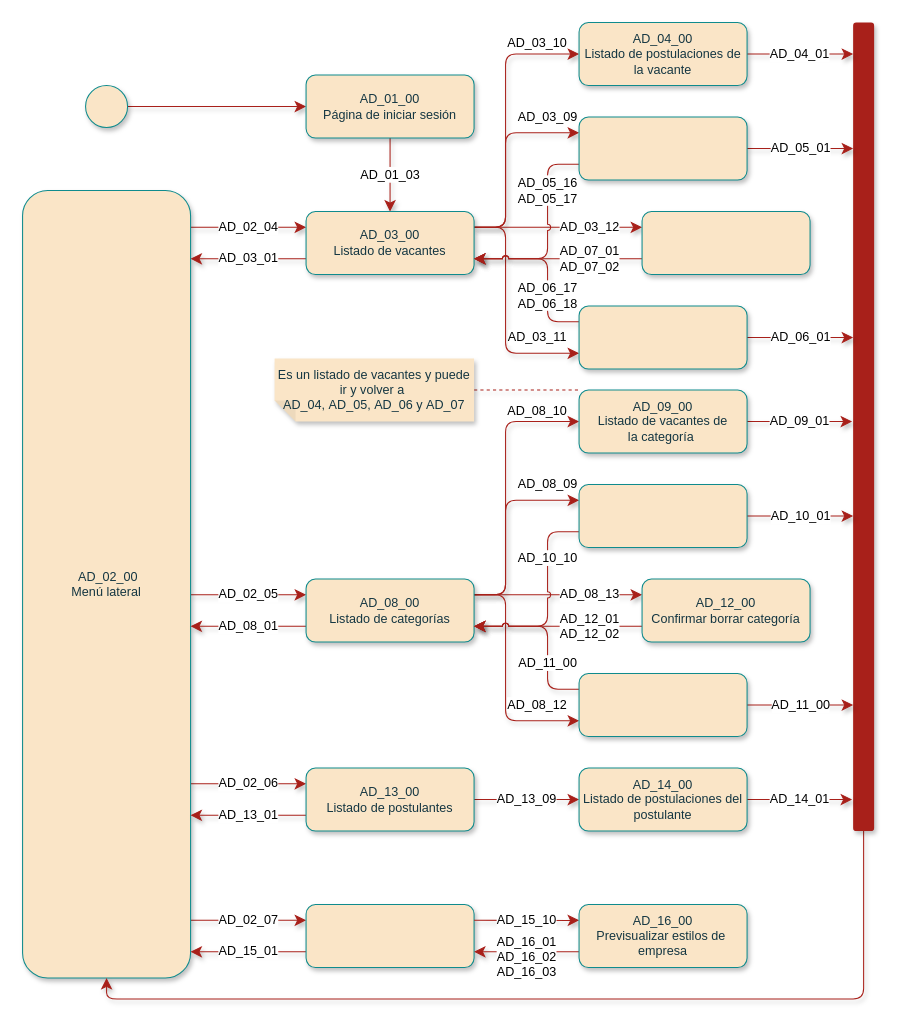
This 899x1035 diagram has some shape labels left out. The shapes that lost their labels are listed below. From the top down, each one's centre as x and y in pixels, then its label:
At [663,149]: "AD_05_00 Añadir vacante".
At [726,244]: "AD_07_00 Confirmar borrar vacante".
At [663,338]: "AD_06_00 Editar vacante".
At [663,517]: "AD_10_00 Añadir categoría".
At [663,706]: "AD_11_00 Editar categoría".
At [390,937]: "AD_15_00 Editar estilos de empresa".
